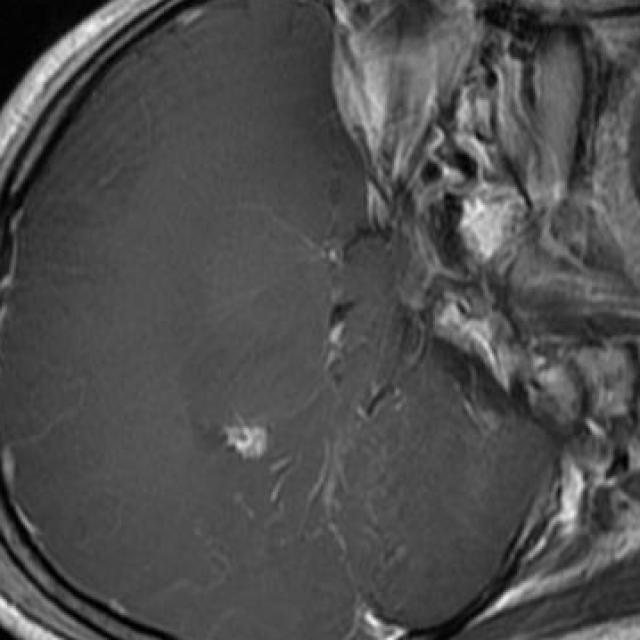glioma: (225, 424, 267, 462)
